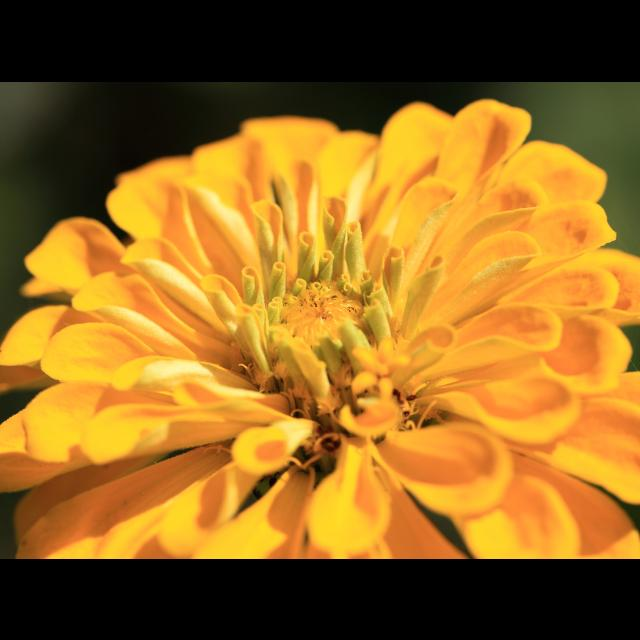Flower: (1, 101, 640, 555)
